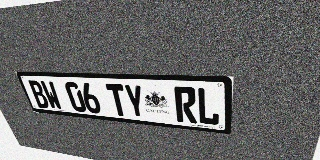0: (63, 82, 87, 112)
6: (78, 82, 102, 114)
B: (27, 80, 51, 109)
L: (196, 87, 220, 126)
R: (174, 86, 197, 124)
T: (105, 83, 129, 117)
W: (39, 81, 63, 110)
Y: (123, 84, 147, 118)
